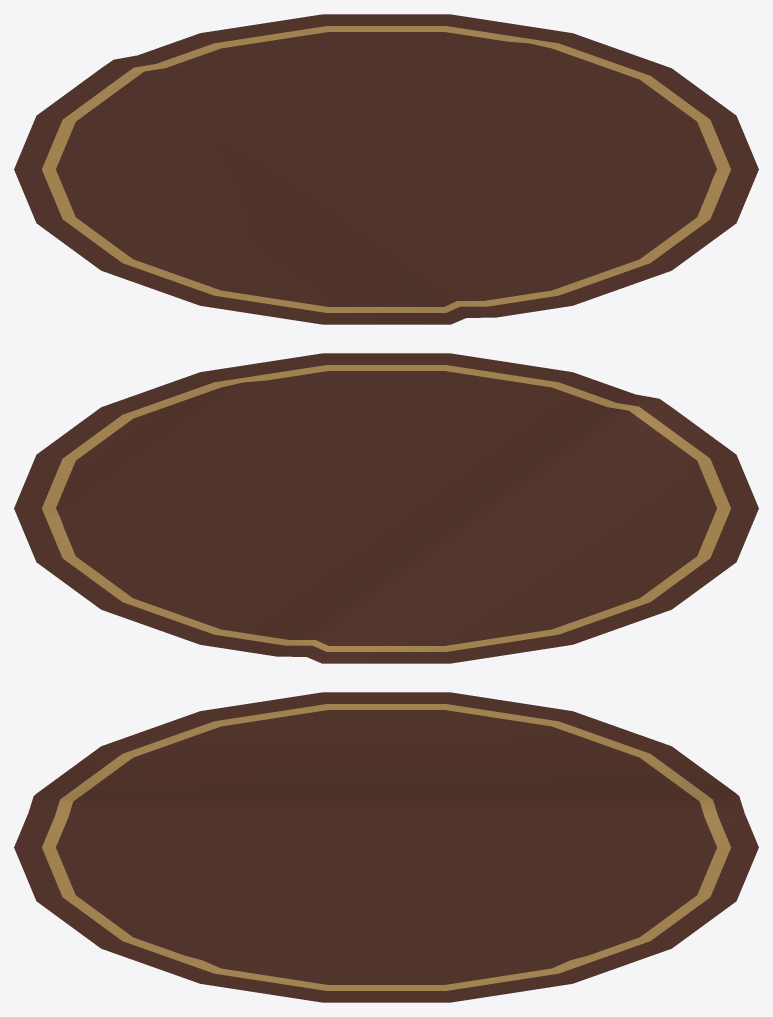
The model's file is Carpet_Round.gltf.
The picture shows the model from 3 angles, top to bottom: view 1: azimuth 30°, elevation 25°; view 2: azimuth 150°, elevation 25°; view 3: azimuth 270°, elevation 25°; orthographic projection.
Parts seen in each view (by area): view 1: Carpet_Round; view 2: Carpet_Round; view 3: Carpet_Round.
Part boxes in pixels (x1,y1,x2,y2): Carpet_Round: (14,14,758,324); Carpet_Round: (14,353,758,663); Carpet_Round: (14,692,758,1002).
Size of the model in its own units: 2.49 by 0.0157 by 2.53.
